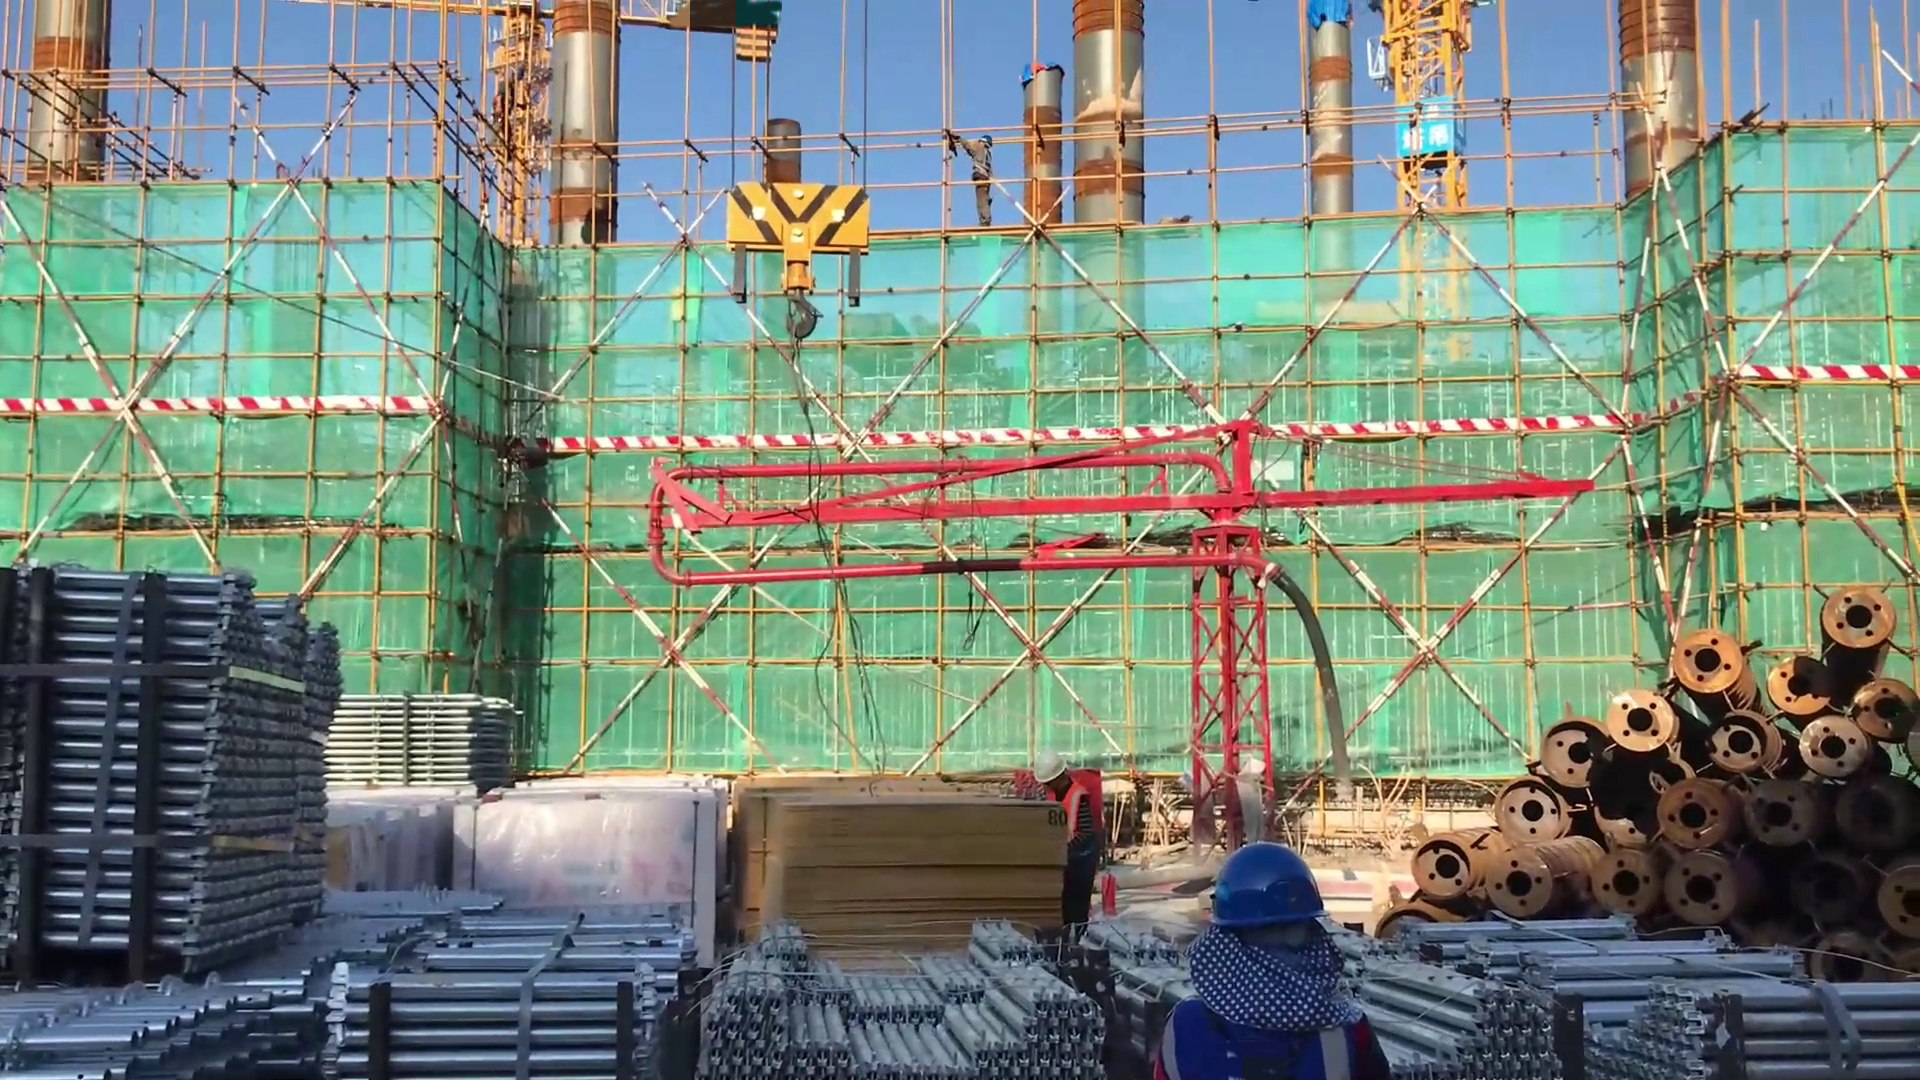board: (734, 788, 1066, 943)
helmet: (1200, 840, 1340, 929), (1030, 748, 1072, 787), (976, 129, 997, 148)
hook: (726, 164, 869, 376)
person: (1133, 838, 1396, 1080), (1026, 753, 1119, 964), (943, 116, 999, 239)
scaffold: (1, 564, 356, 971), (1318, 906, 1920, 1071), (319, 884, 702, 1080), (700, 917, 1102, 1080), (1, 942, 359, 1074), (316, 692, 537, 789)
slogan: (1395, 92, 1461, 153)
vest: (1157, 990, 1351, 1080), (1036, 780, 1094, 866)
